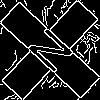N: (25, 25, 83, 83)
